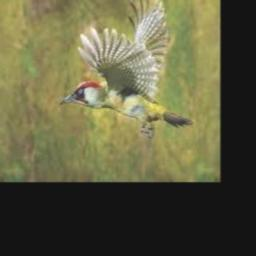Woodpecker: (59, 0, 195, 138)
